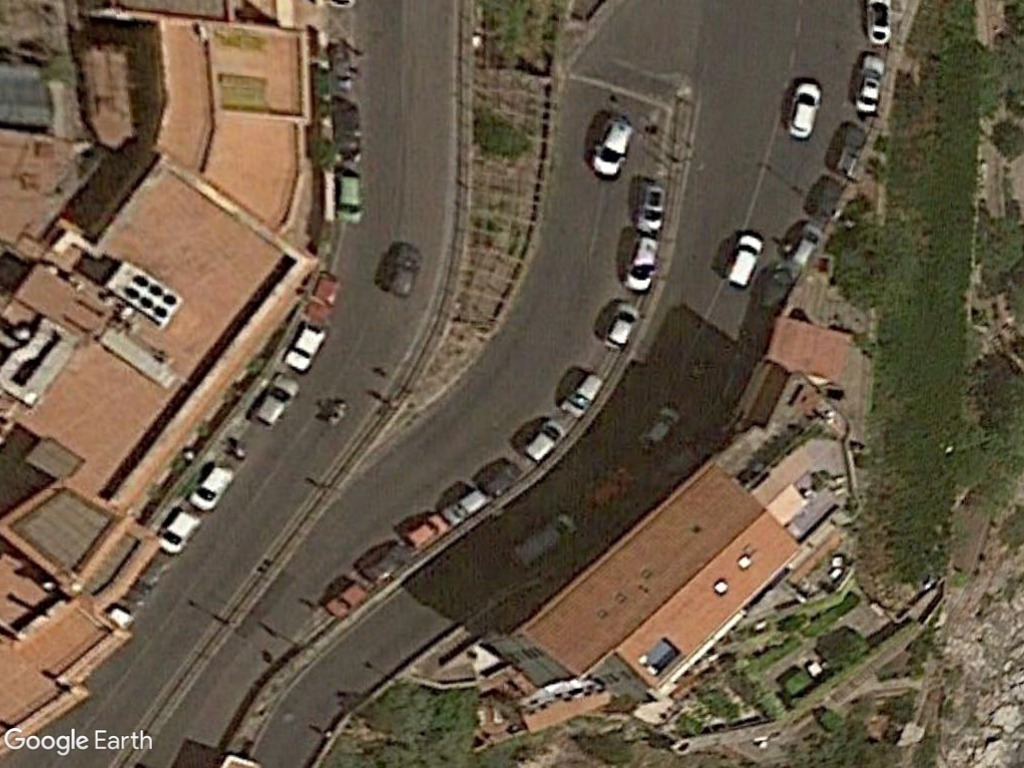car: (589, 114, 636, 180), (251, 372, 301, 432), (783, 79, 824, 142), (283, 319, 329, 373), (522, 416, 568, 467), (852, 51, 887, 117), (601, 297, 640, 353)
van: (184, 461, 234, 513), (724, 229, 764, 292), (154, 509, 203, 558)
